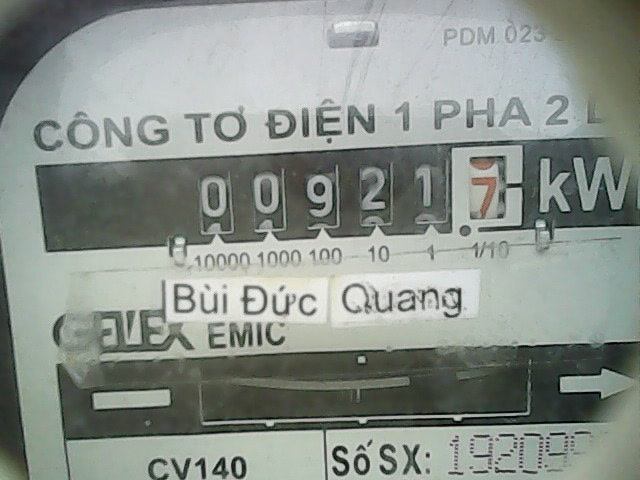phy_plate: (180, 136, 536, 239)
